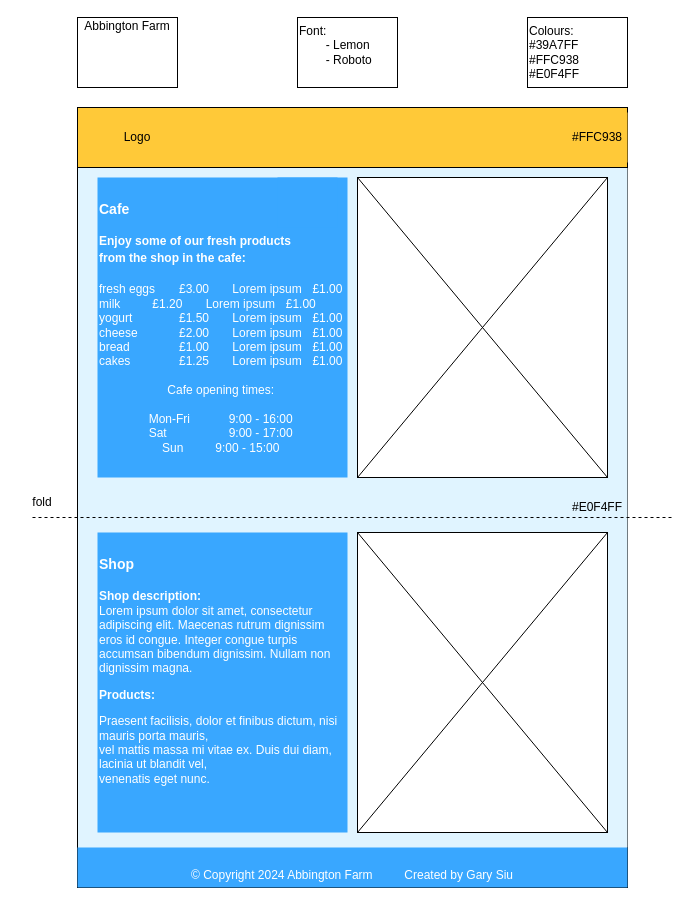
Image size: 691x911. Some labels were removed from this diagram. The box of each missing label's shape, as (x1, y1, x2, y2) in pixels:
#39A7FF: (277, 177, 337, 227)
HOME SHOP FUN CONTACT: (76, 106, 628, 168)
Shop: (76, 16, 178, 88)
